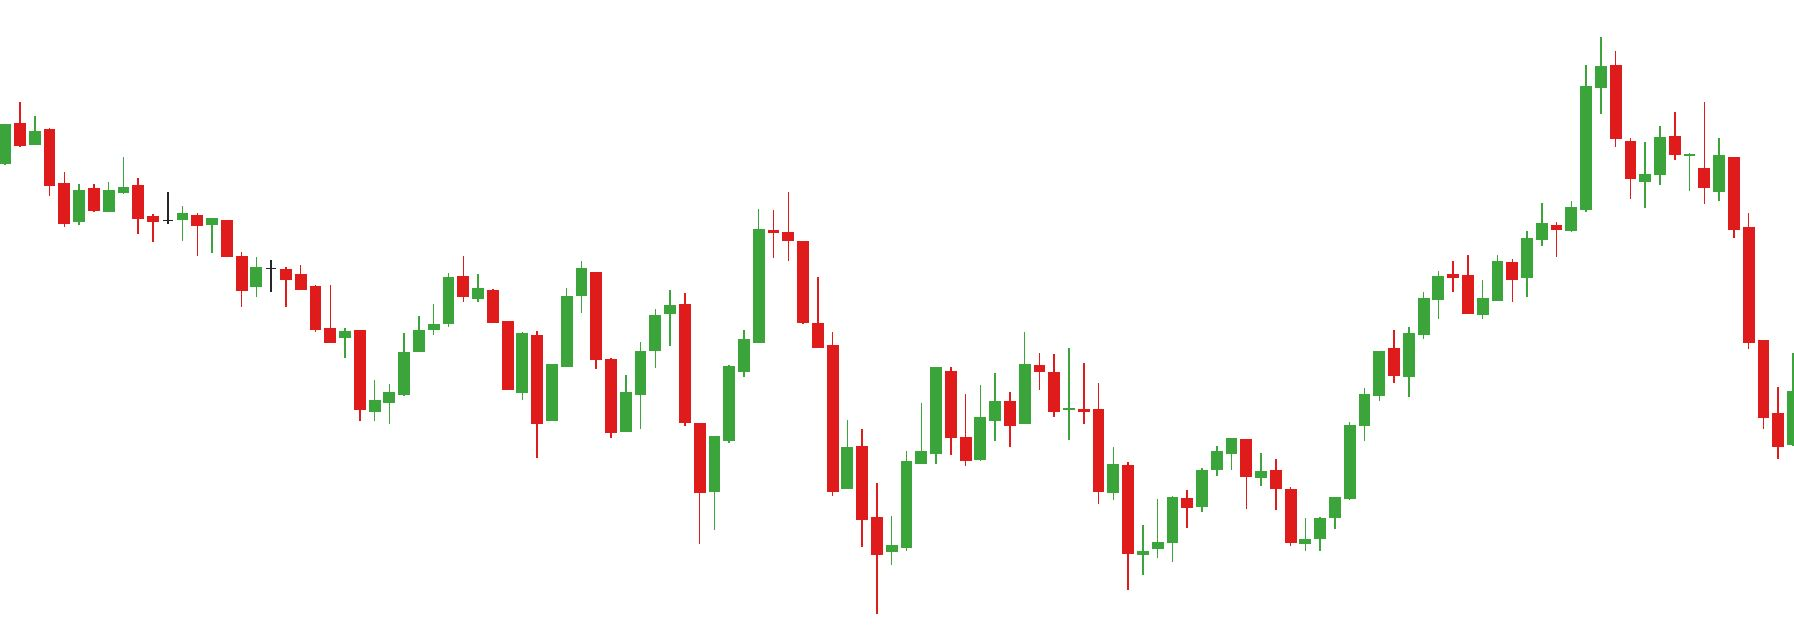buy: (525, 335, 719, 542)
